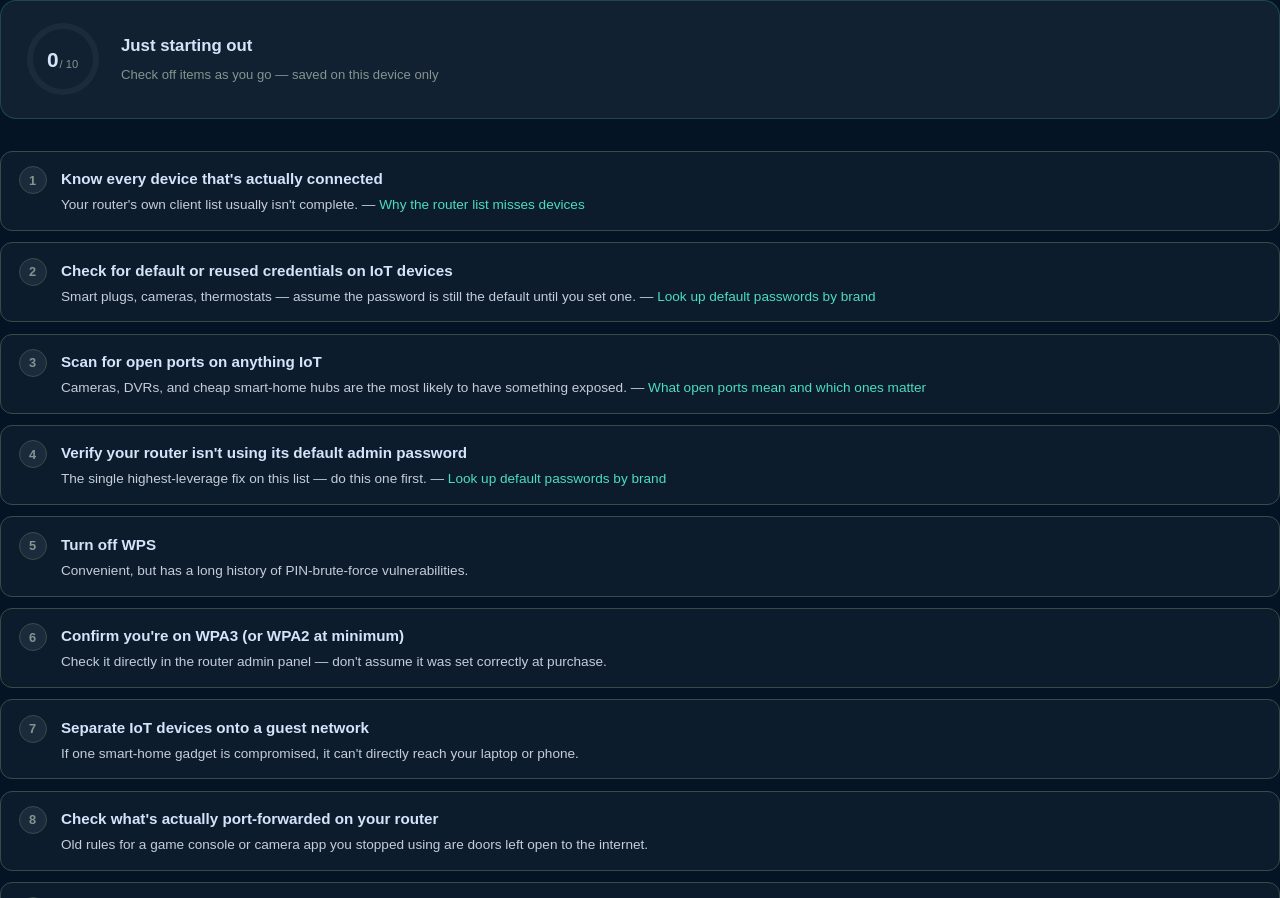
Test case: clicking an item checks it, shows the Reset button, and persists to localStorage
The width and height of the screenshot is (1280, 898).
What coordinates should you click on to do the following:
click the checkbox named "Know every device that's actually connected"
I would click on:
 (33, 180)
Its box is [19,166,47,194].
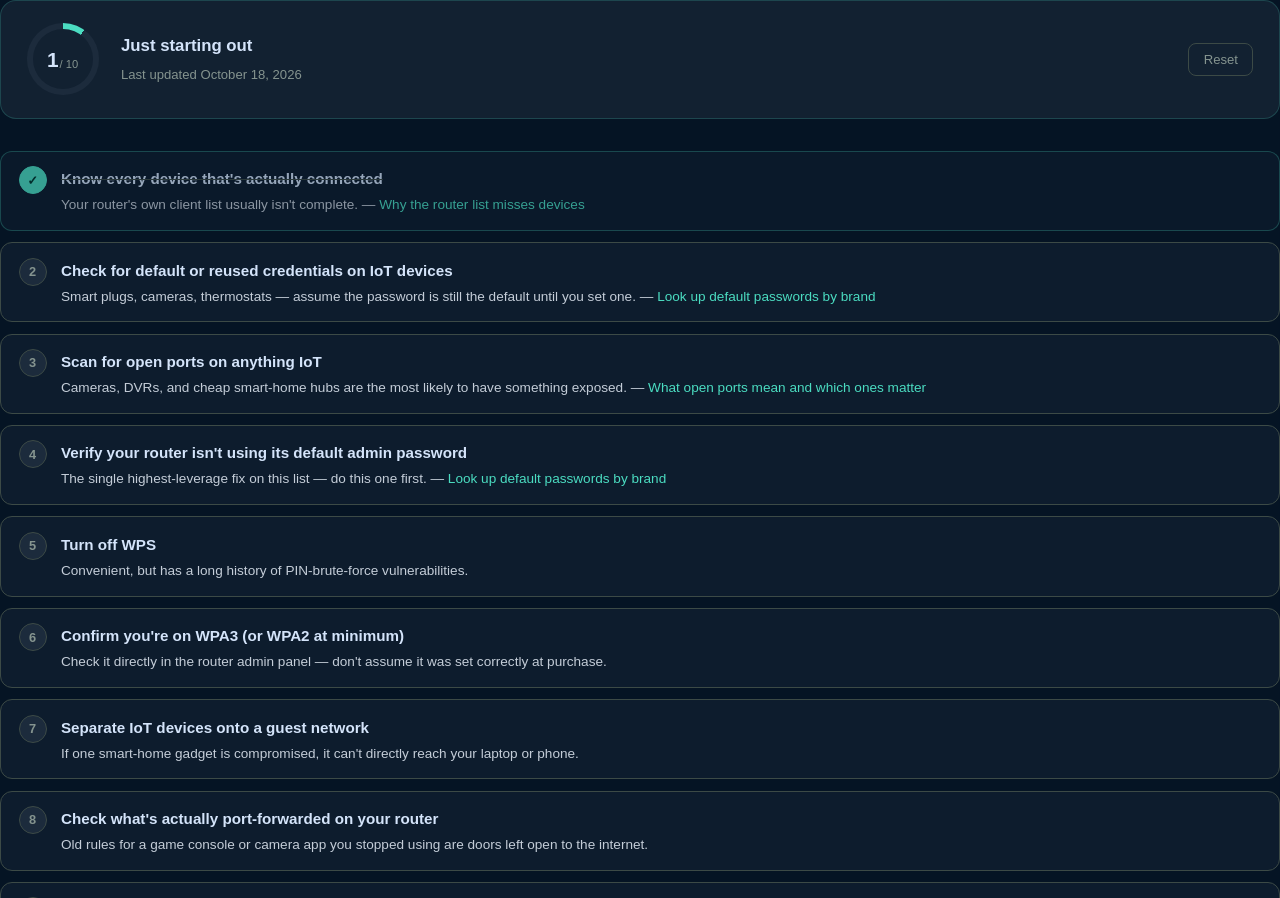
Expected: the button "Reset" is shown, [1188,43,1253,76]
